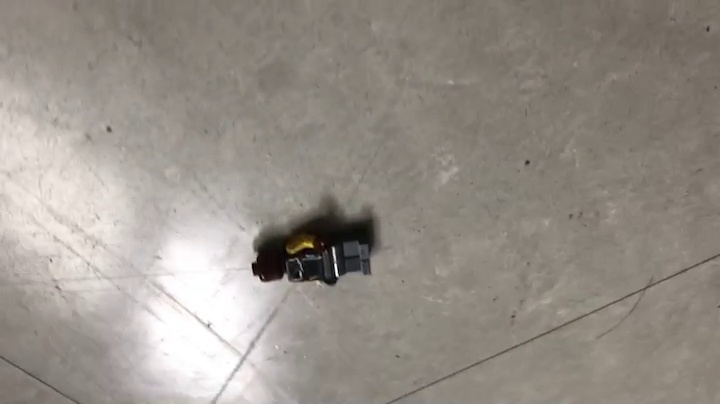people: (251, 194, 381, 290)
